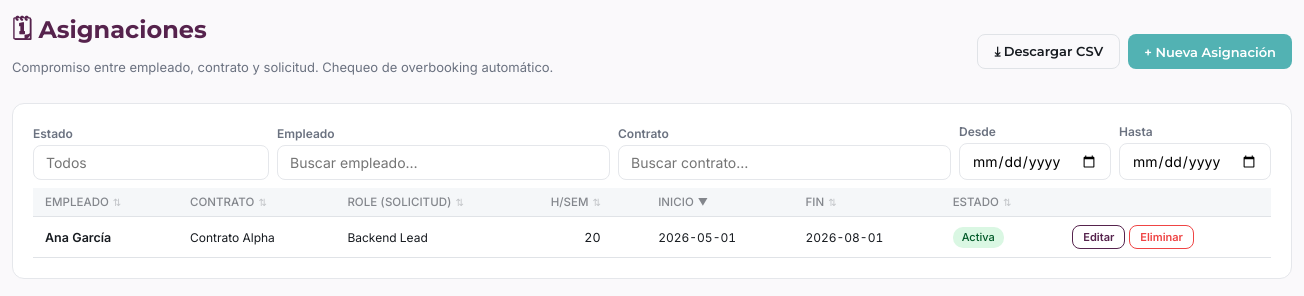
SPEC-008: filtro por contrato — ContractMultiSelect › shows "Sin coincidencias" when the query matches nothing
The width and height of the screenshot is (1304, 296).
Expected: the text "Ana García" is shown, [33,216,178,258]
Step 1. Type "xyznonexistent" into the field named "Filtro por contrato" → {"x": 784, "y": 162}, box [618,145,951,180]
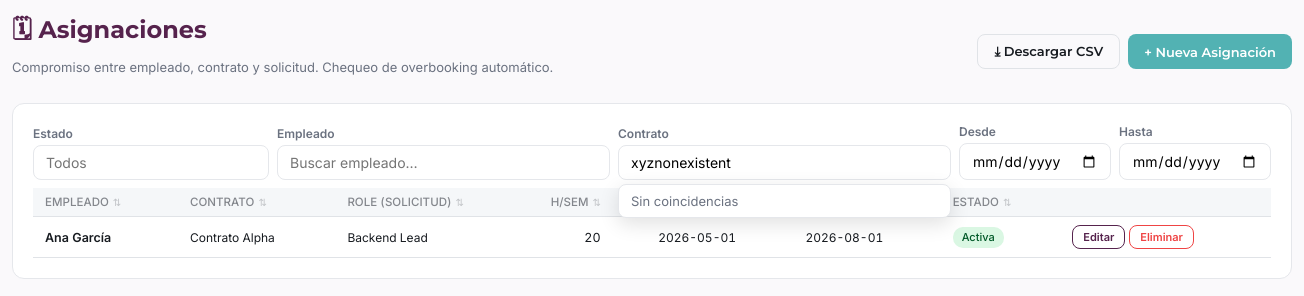
Now the list item "Sin coincidencias" is shown, box [631,193,738,209]
